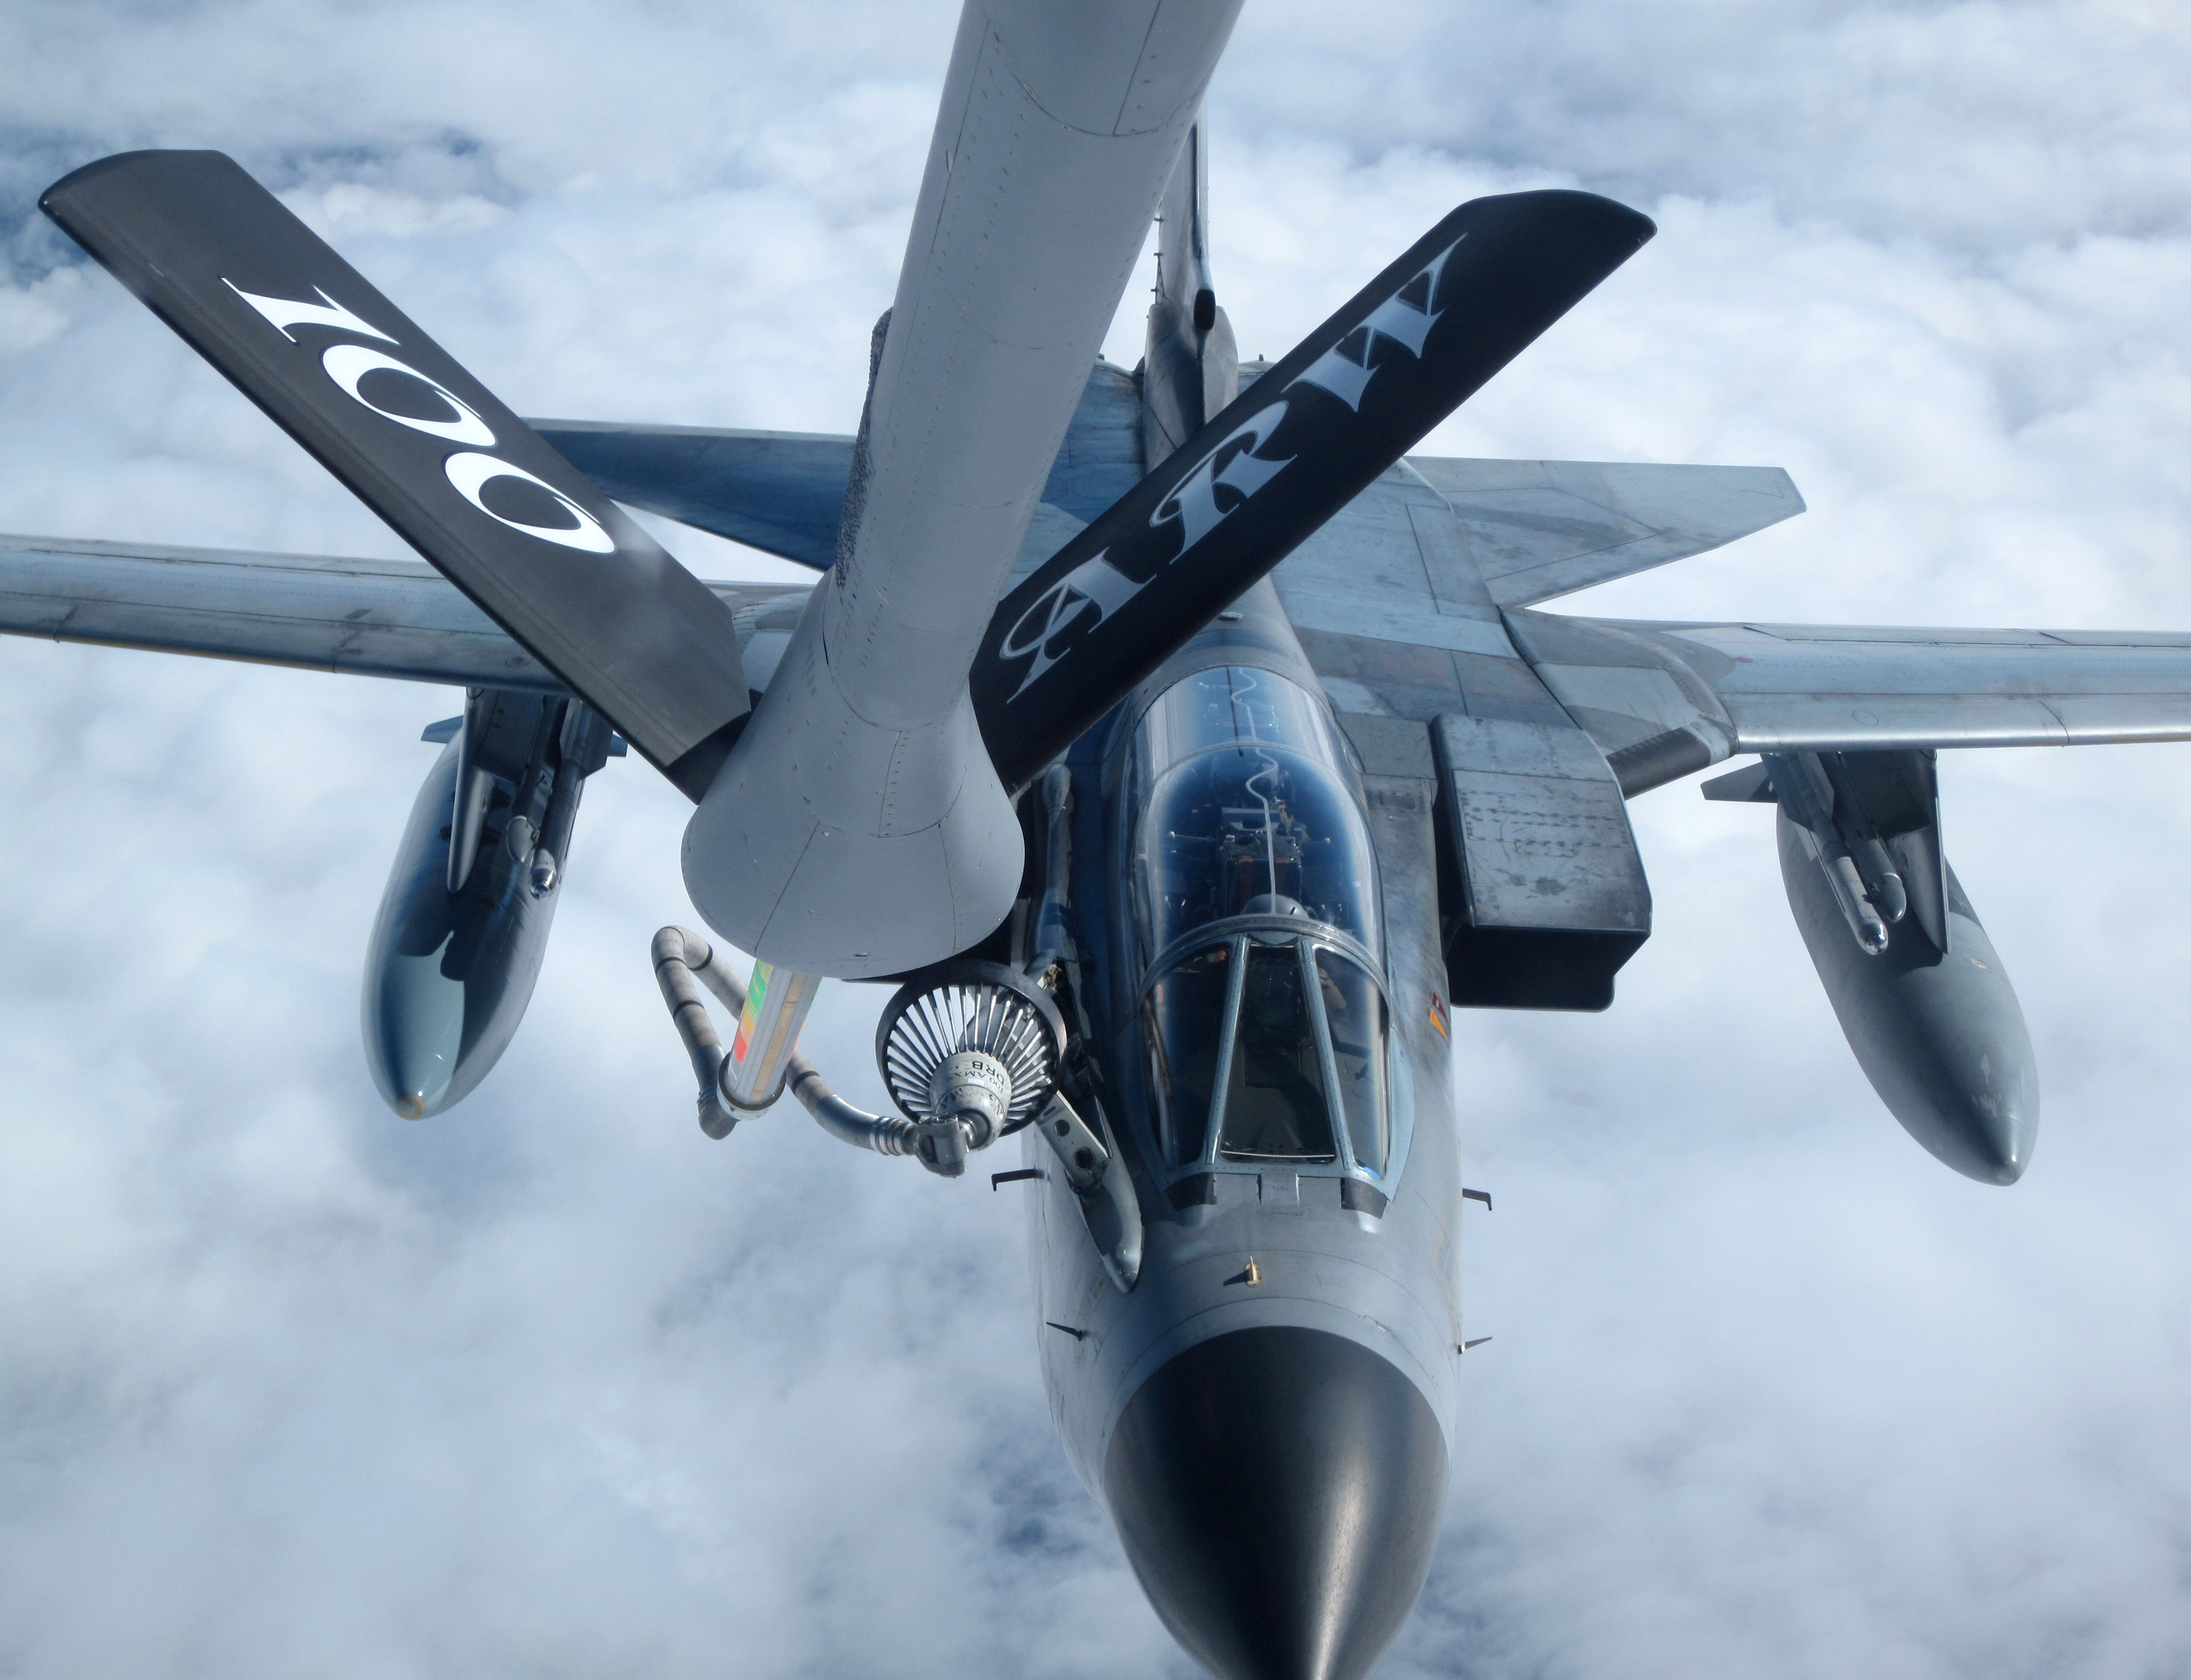Tornado: (0, 94, 2191, 1680)
